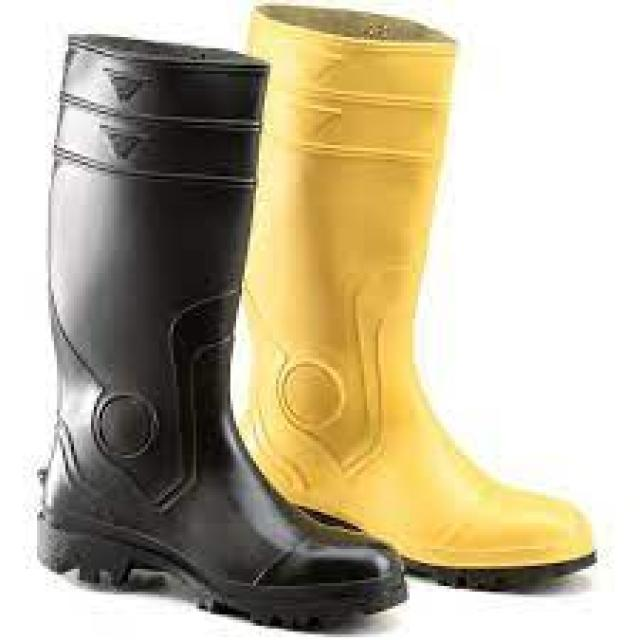shoes: (40, 9, 592, 624)
